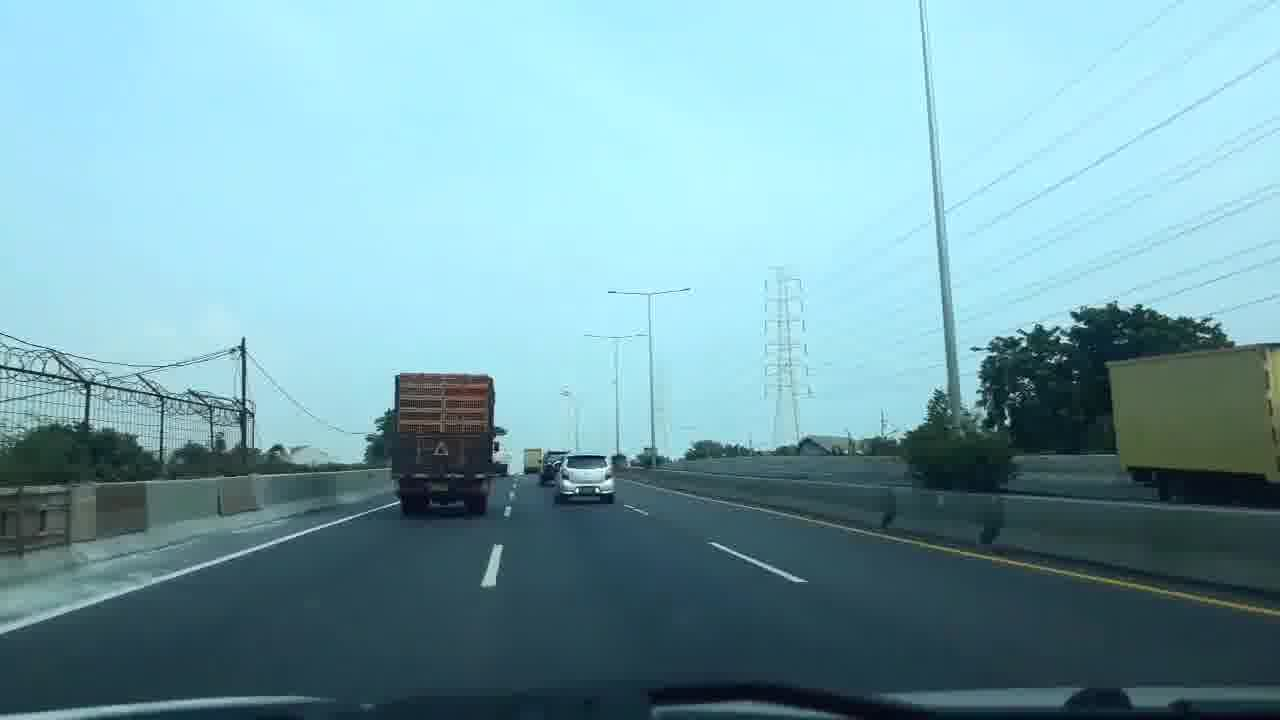plate_positive: (431, 483, 448, 492), (579, 487, 596, 494)
